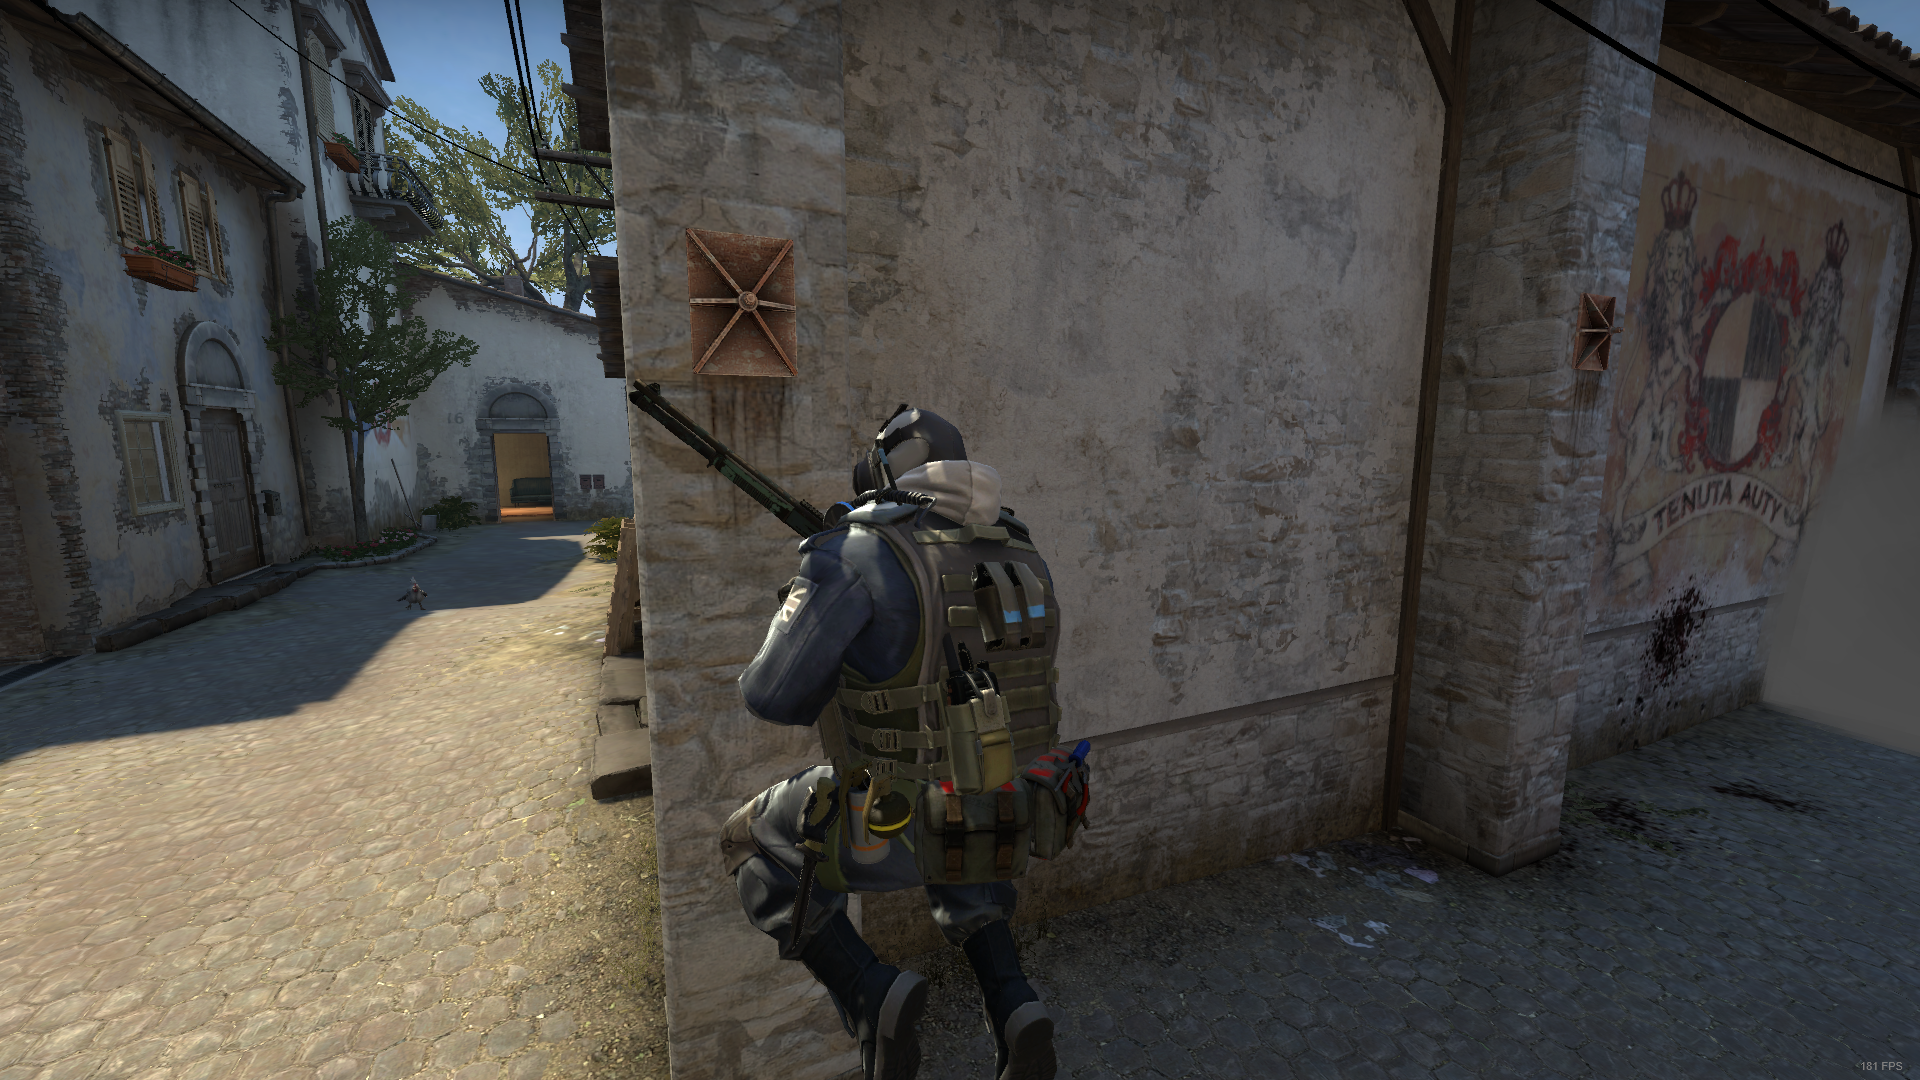ct: (725, 407, 1091, 1080)
